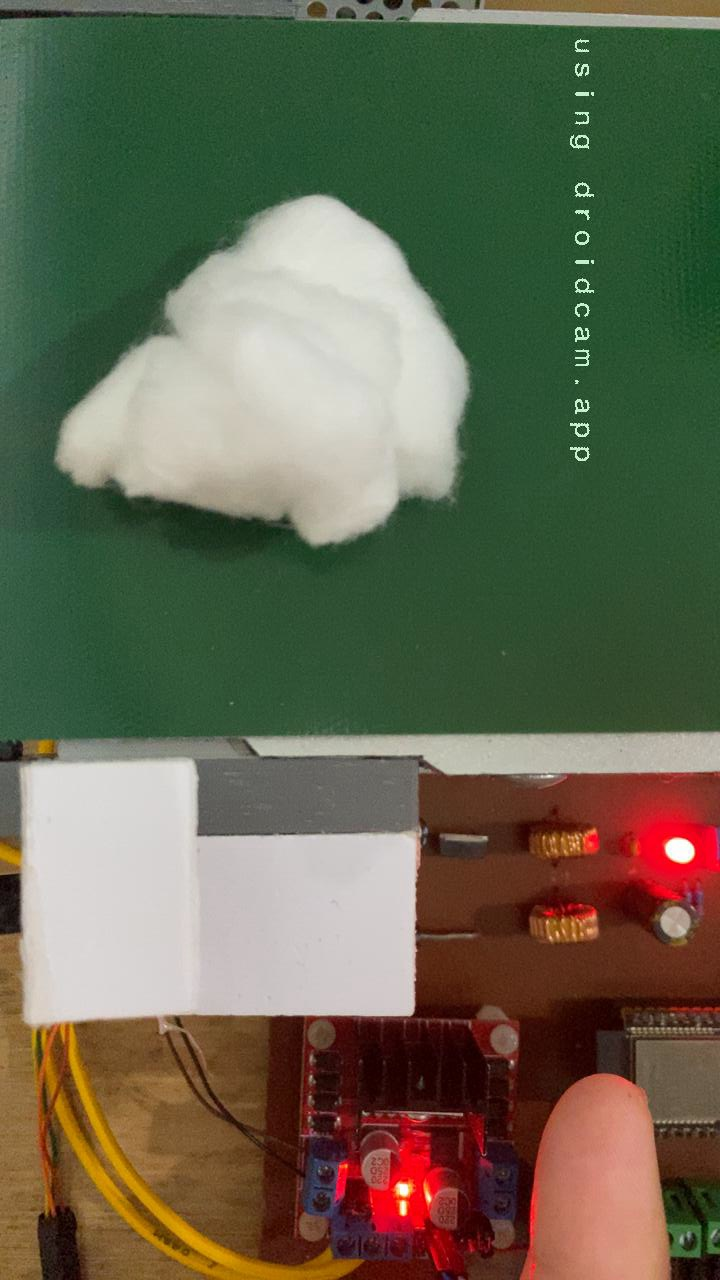cotton: (49, 188, 478, 552)
